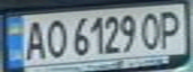1: (87, 12, 106, 55)
2: (103, 11, 124, 54)
6: (69, 15, 90, 56)
9: (118, 11, 139, 53)
A: (21, 17, 48, 61)
O: (42, 16, 69, 60), (139, 9, 166, 51)
P: (154, 7, 187, 50)
